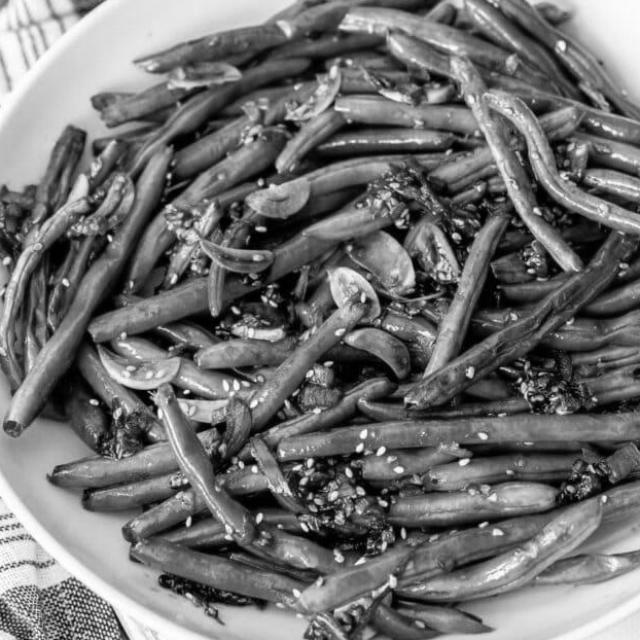Beans: (1, 0, 639, 637)
